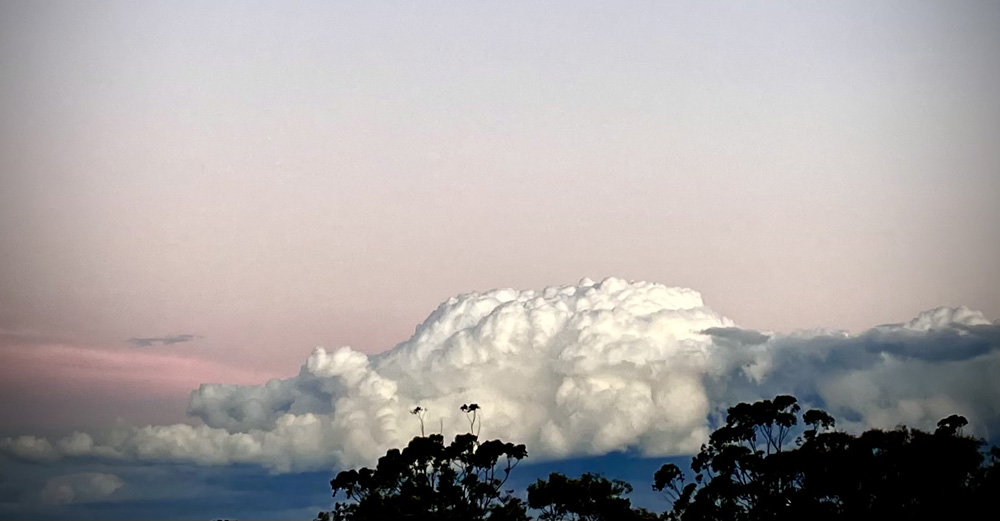Cumulus: (118, 227, 783, 461)
